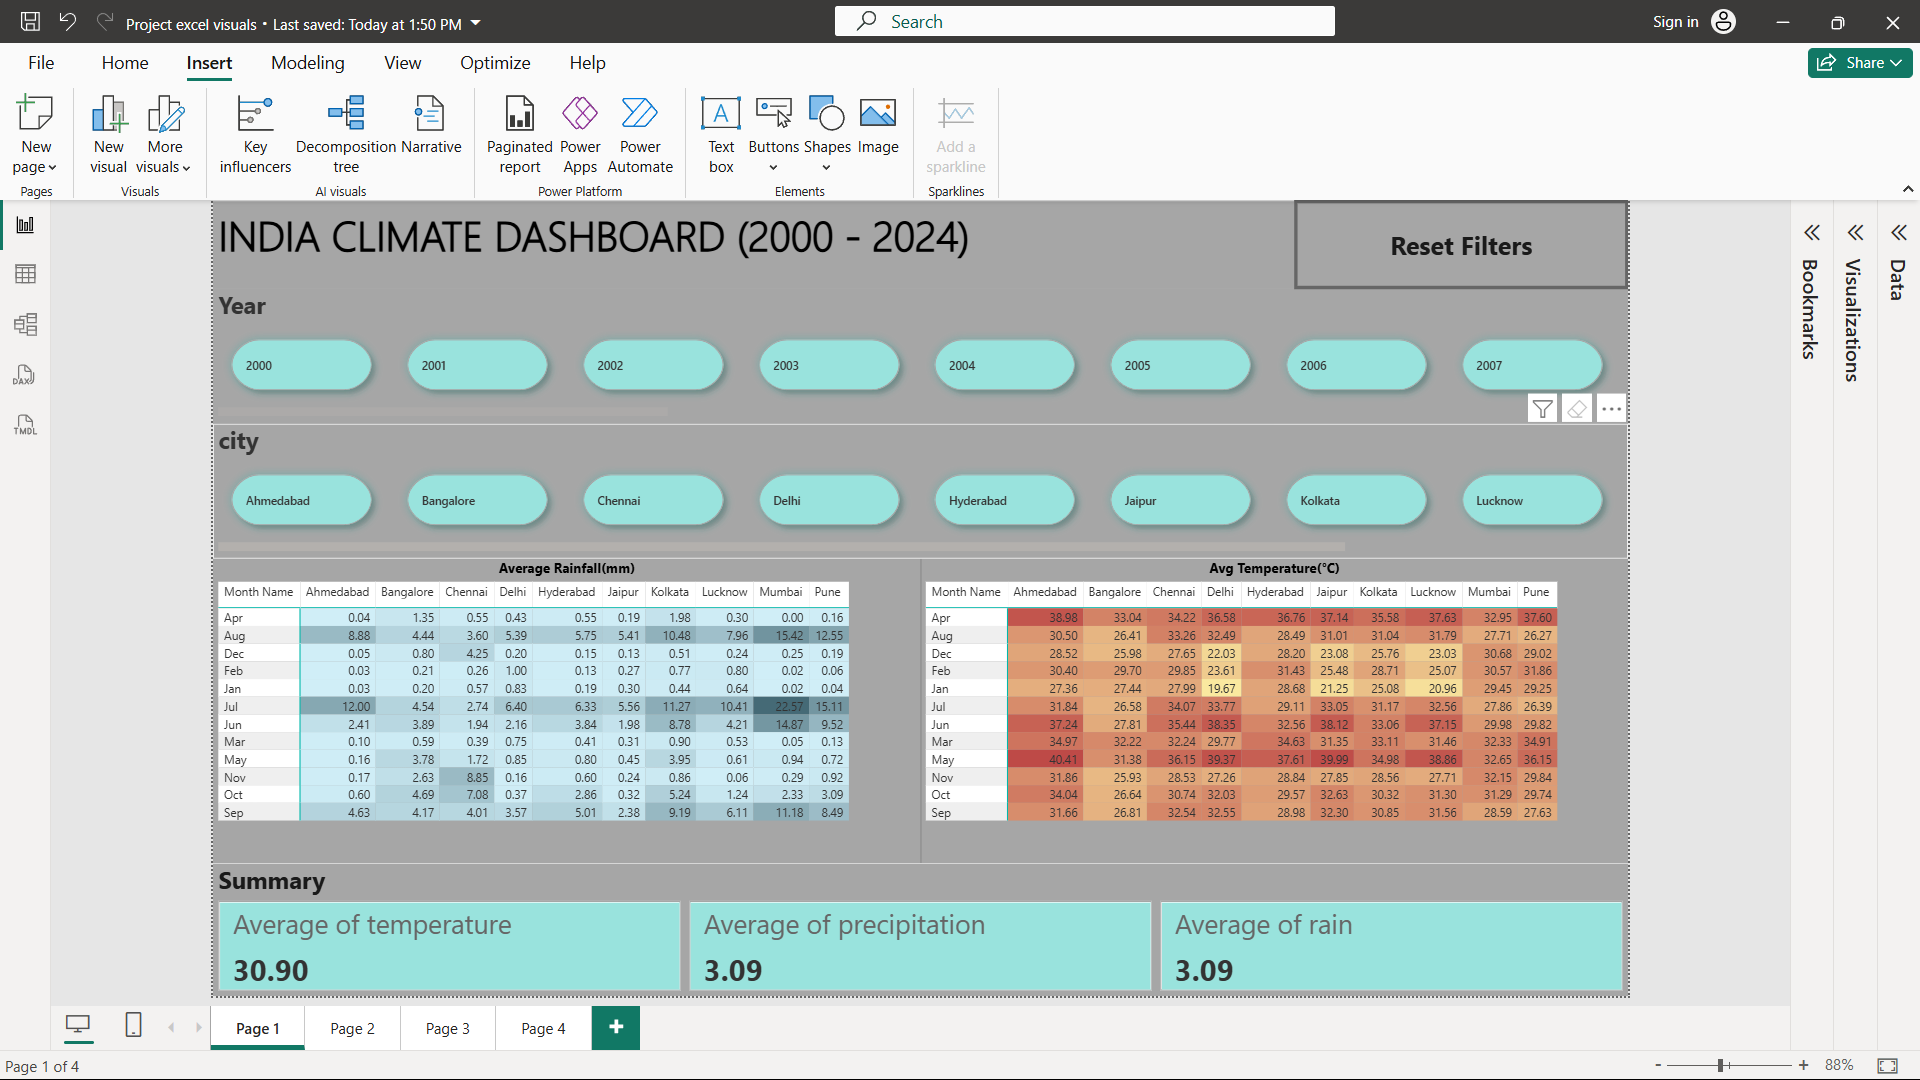

The dashboard page shown, as its layout file describes it:
{"tool":"powerbi","page":{"name":"Page 1","canvas":[1280,720],"ordinal":0},"visuals":[{"type":"pivotTable","fields":{"Rows":["india_2000_2024_daily_weather_csv.Month Name"],"Columns":["india_2000_2024_daily_weather_csv.city"],"Values":["Avg(india_2000_2024_daily_weather_csv.rain_sum)"]},"box":[10,0,752,280],"z":0},{"type":"pivotTable","fields":{"Rows":["india_2000_2024_daily_weather_csv.Month Name"],"Columns":["india_2000_2024_daily_weather_csv.city"],"Values":["Avg(india_2000_2024_daily_weather_csv.temperature_2m_max)"]},"box":[0,280,764,357],"z":1000},{"type":"advancedSlicerVisual","fields":{"Values":["india_2000_2024_daily_weather_csv.city"]},"box":[772,0,508,280],"z":2000},{"type":"advancedSlicerVisual","fields":{"Values":["india_2000_2024_daily_weather_csv.Year"]},"box":[772,280,508,302],"z":3000}]}

Visuals, with their boxes on the page's 1280x720 design canvas (x1, y1, x2, y2). These are canvas units, not pixel positions in the 1920x1080 screenshot, which may show the page scaled, cropped or inside an application window:
pivotTable - india_2000_2024_daily_weather_csv.Month Name x india_2000_2024_daily_weather_csv.city: (10, 0, 762, 280)
pivotTable - india_2000_2024_daily_weather_csv.Month Name x india_2000_2024_daily_weather_csv.city: (0, 280, 764, 637)
advancedSlicerVisual - india_2000_2024_daily_weather_csv.city: (772, 0, 1280, 280)
advancedSlicerVisual - india_2000_2024_daily_weather_csv.Year: (772, 280, 1280, 582)
